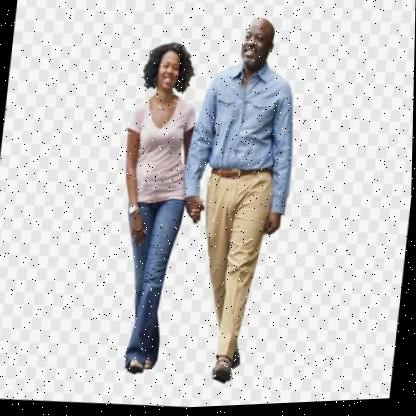person: (163, 6, 313, 393), (98, 32, 210, 380)
